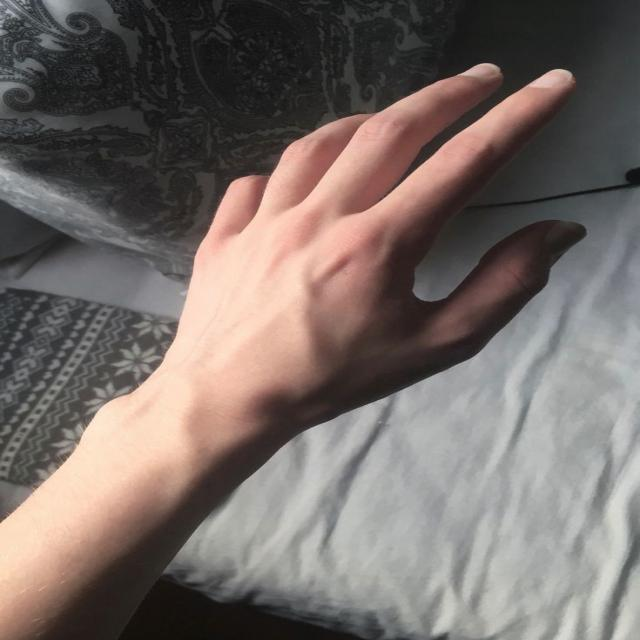bare_hand: (98, 63, 588, 476)
